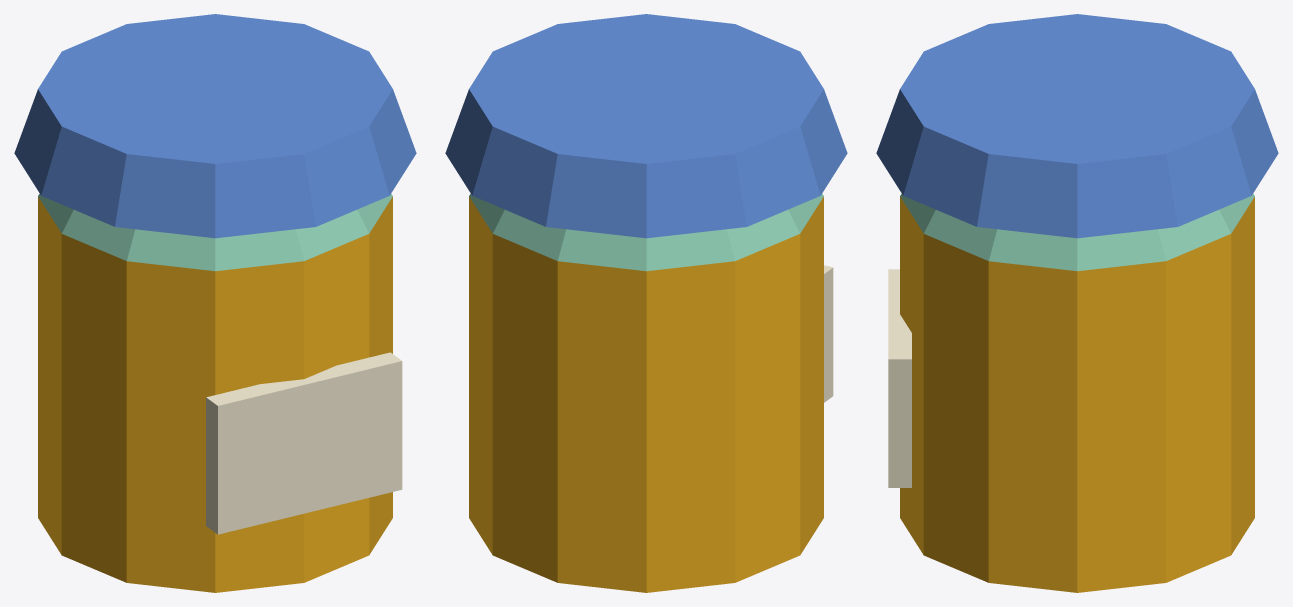
File: jam_mango.obj
The picture shows the model from 3 angles, left to right: view 1: azimuth 30°, elevation 25°; view 2: azimuth 150°, elevation 25°; view 3: azimuth 270°, elevation 25°; orthographic projection.
Visible parts, largest first — view 1: item; view 2: item; view 3: item.
Part boxes in pixels (<box>): item: <box>14,14,416,592</box>; item: <box>445,14,847,592</box>; item: <box>876,14,1278,592</box>.
Bounding box in the file's own units: 0.34 × 0.4 × 0.34.
